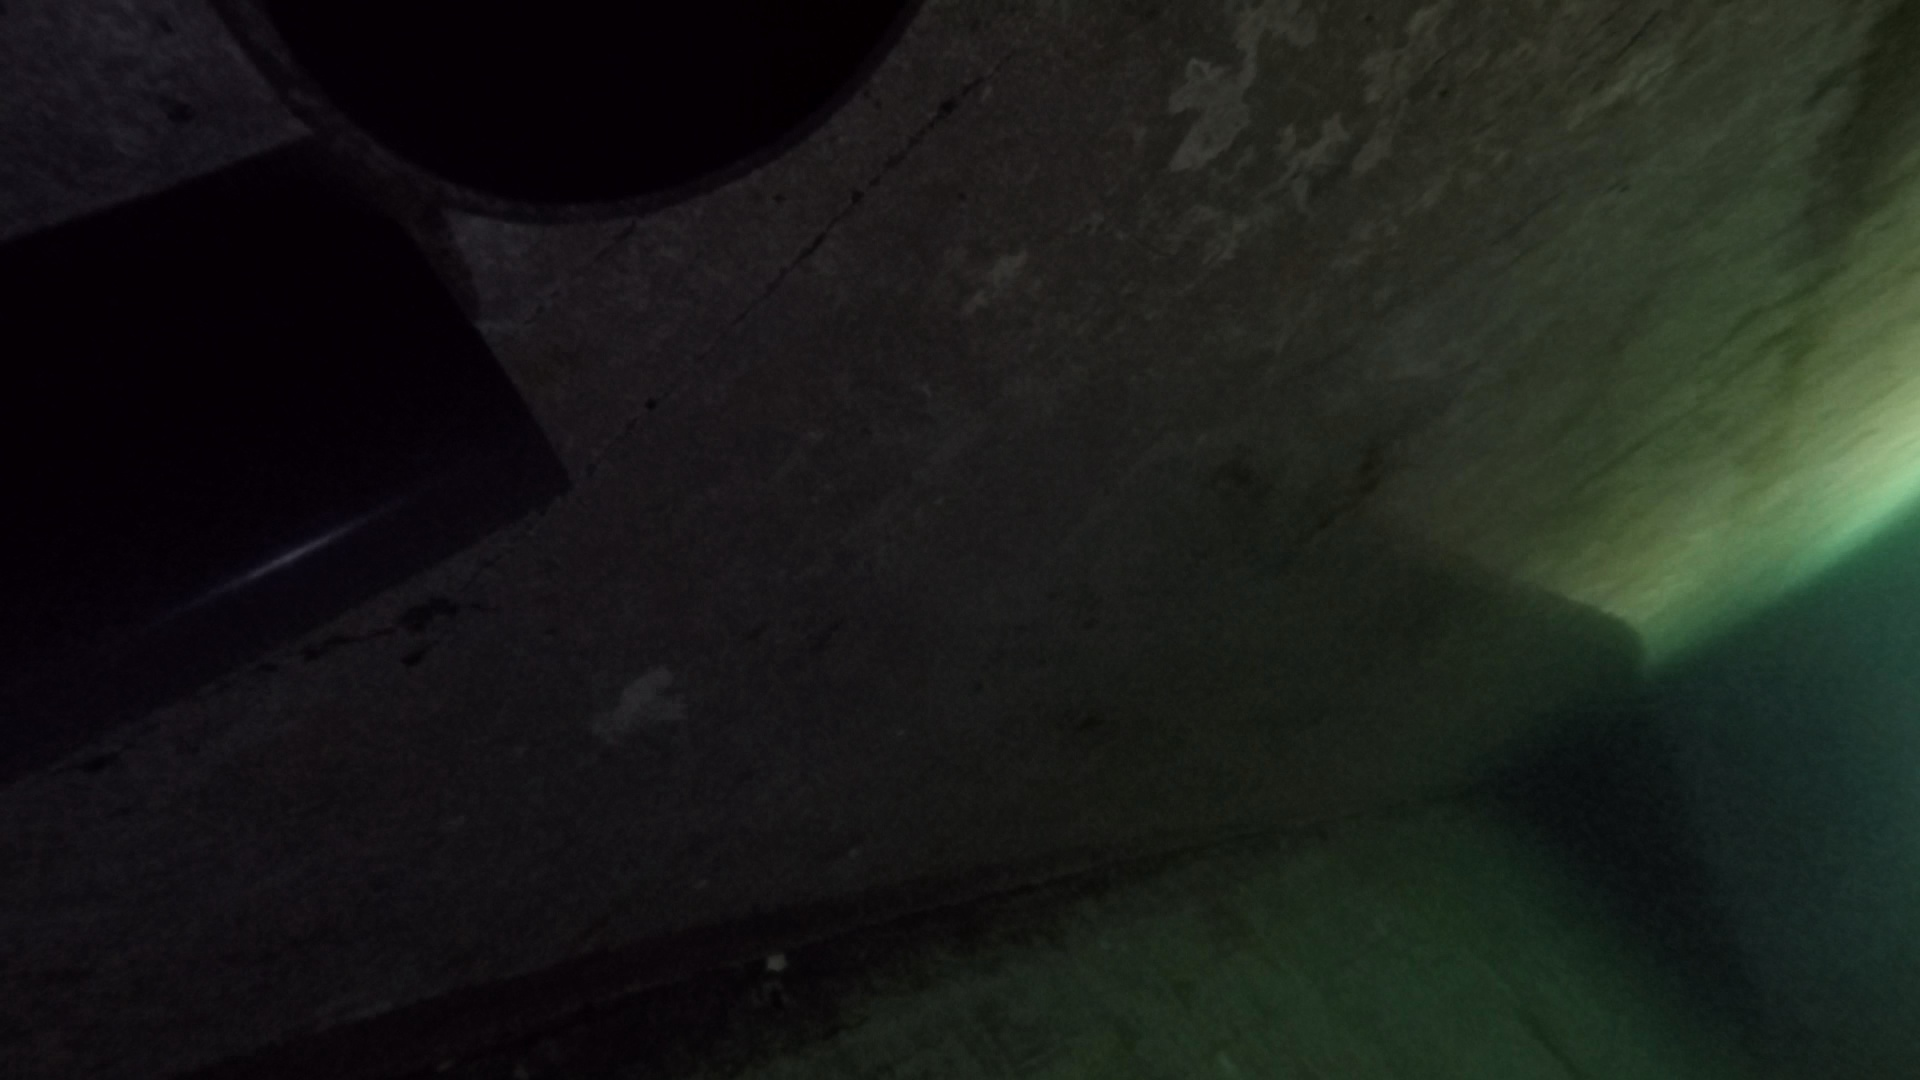pipe: (1, 137, 575, 786), (214, 1, 924, 228)
